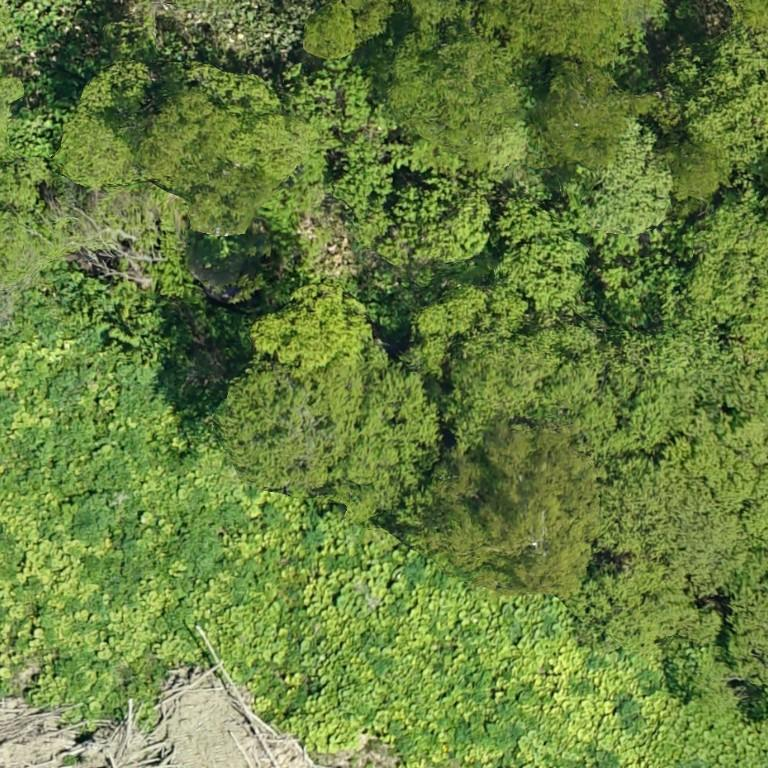hogweed: (114, 363, 175, 412), (70, 491, 116, 537), (46, 369, 80, 407)
